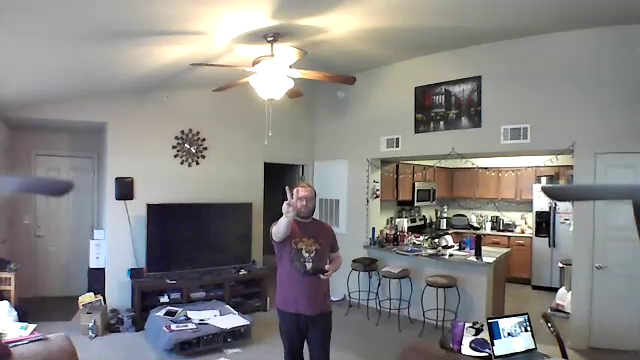peace: (277, 184, 303, 222)
